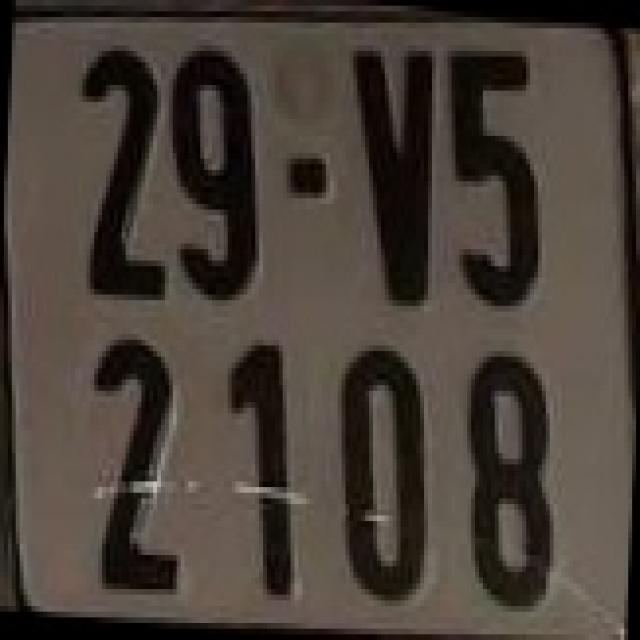0: (330, 334, 436, 606)
1: (216, 334, 310, 606)
2: (86, 328, 188, 600), (74, 39, 172, 306)
5: (444, 34, 546, 311)
8: (459, 340, 562, 612)
9: (173, 34, 271, 300)
V: (346, 39, 444, 306)
